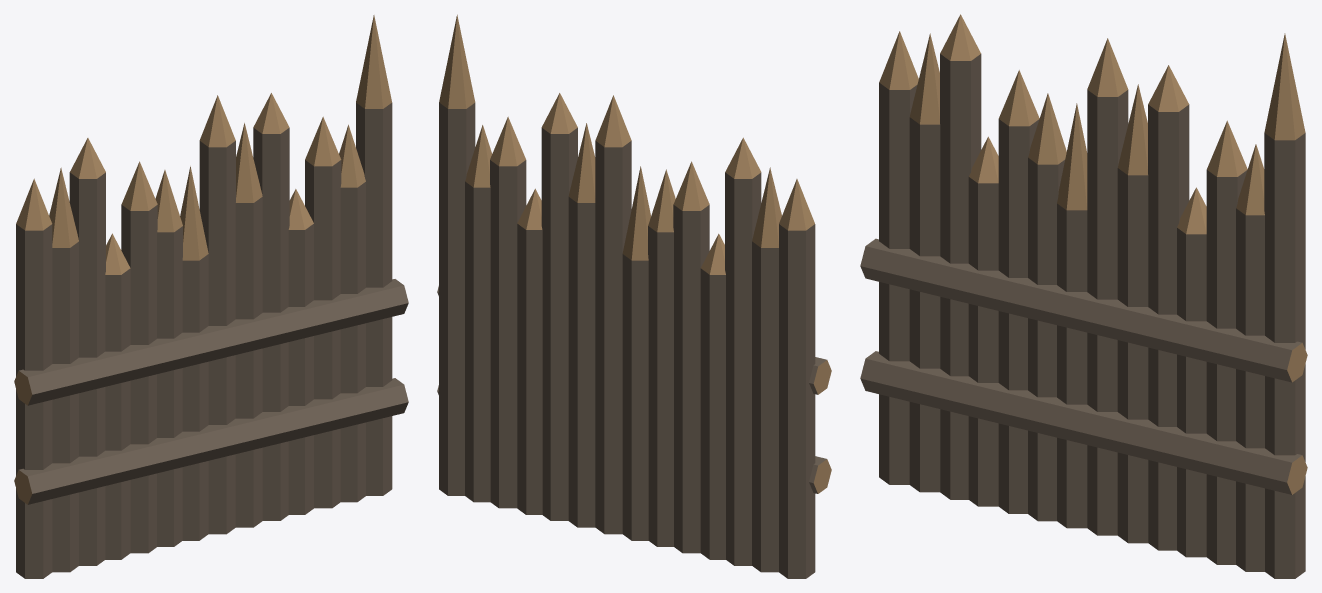
File: army_wood_wall_01.glb
The picture shows the model from 3 angles, left to right: view 1: azimuth 30°, elevation 25°; view 2: azimuth 150°, elevation 25°; view 3: azimuth 330°, elevation 25°; orthographic projection. The views are drawn at different scales.
Visible parts, largest first — view 1: pCylinder559; view 2: pCylinder559; view 3: pCylinder559.
Part boxes in pixels (left/top/right/bottom): pCylinder559: left=14, top=15, right=408, bottom=578; pCylinder559: left=437, top=14, right=831, bottom=578; pCylinder559: left=860, top=14, right=1307, bottom=578.
Size of the model in its own units: 4.07 by 4.91 by 0.4776.
